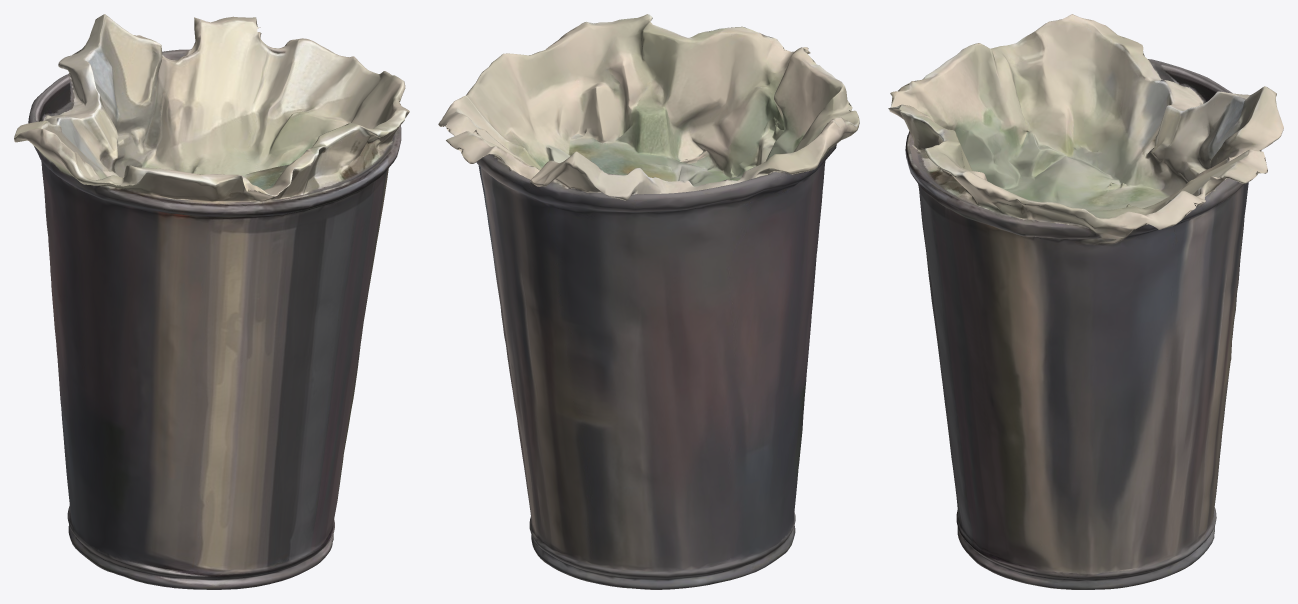
Rendered from towel_bin.glb.
3 views of the same model, side by side, from view 1: azimuth 30°, elevation 25°; view 2: azimuth 150°, elevation 25°; view 3: azimuth 270°, elevation 25° (orthographic). The views are drawn at different scales.
Parts seen in each view (by area): view 1: piece; view 2: piece; view 3: piece.
Boxes of the visible parts, bbox=[...] form: piece: bbox=[14, 14, 409, 589]; piece: bbox=[438, 14, 859, 589]; piece: bbox=[888, 14, 1283, 589].
Bounding box in the file's own units: 0.6125 × 0.75 × 0.6.
Materials: 1 (1 with a texture image).
